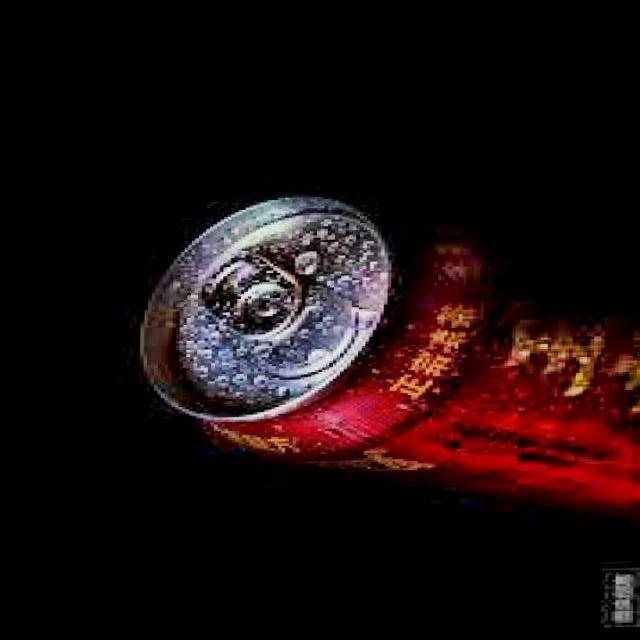litter: (119, 183, 640, 532)
